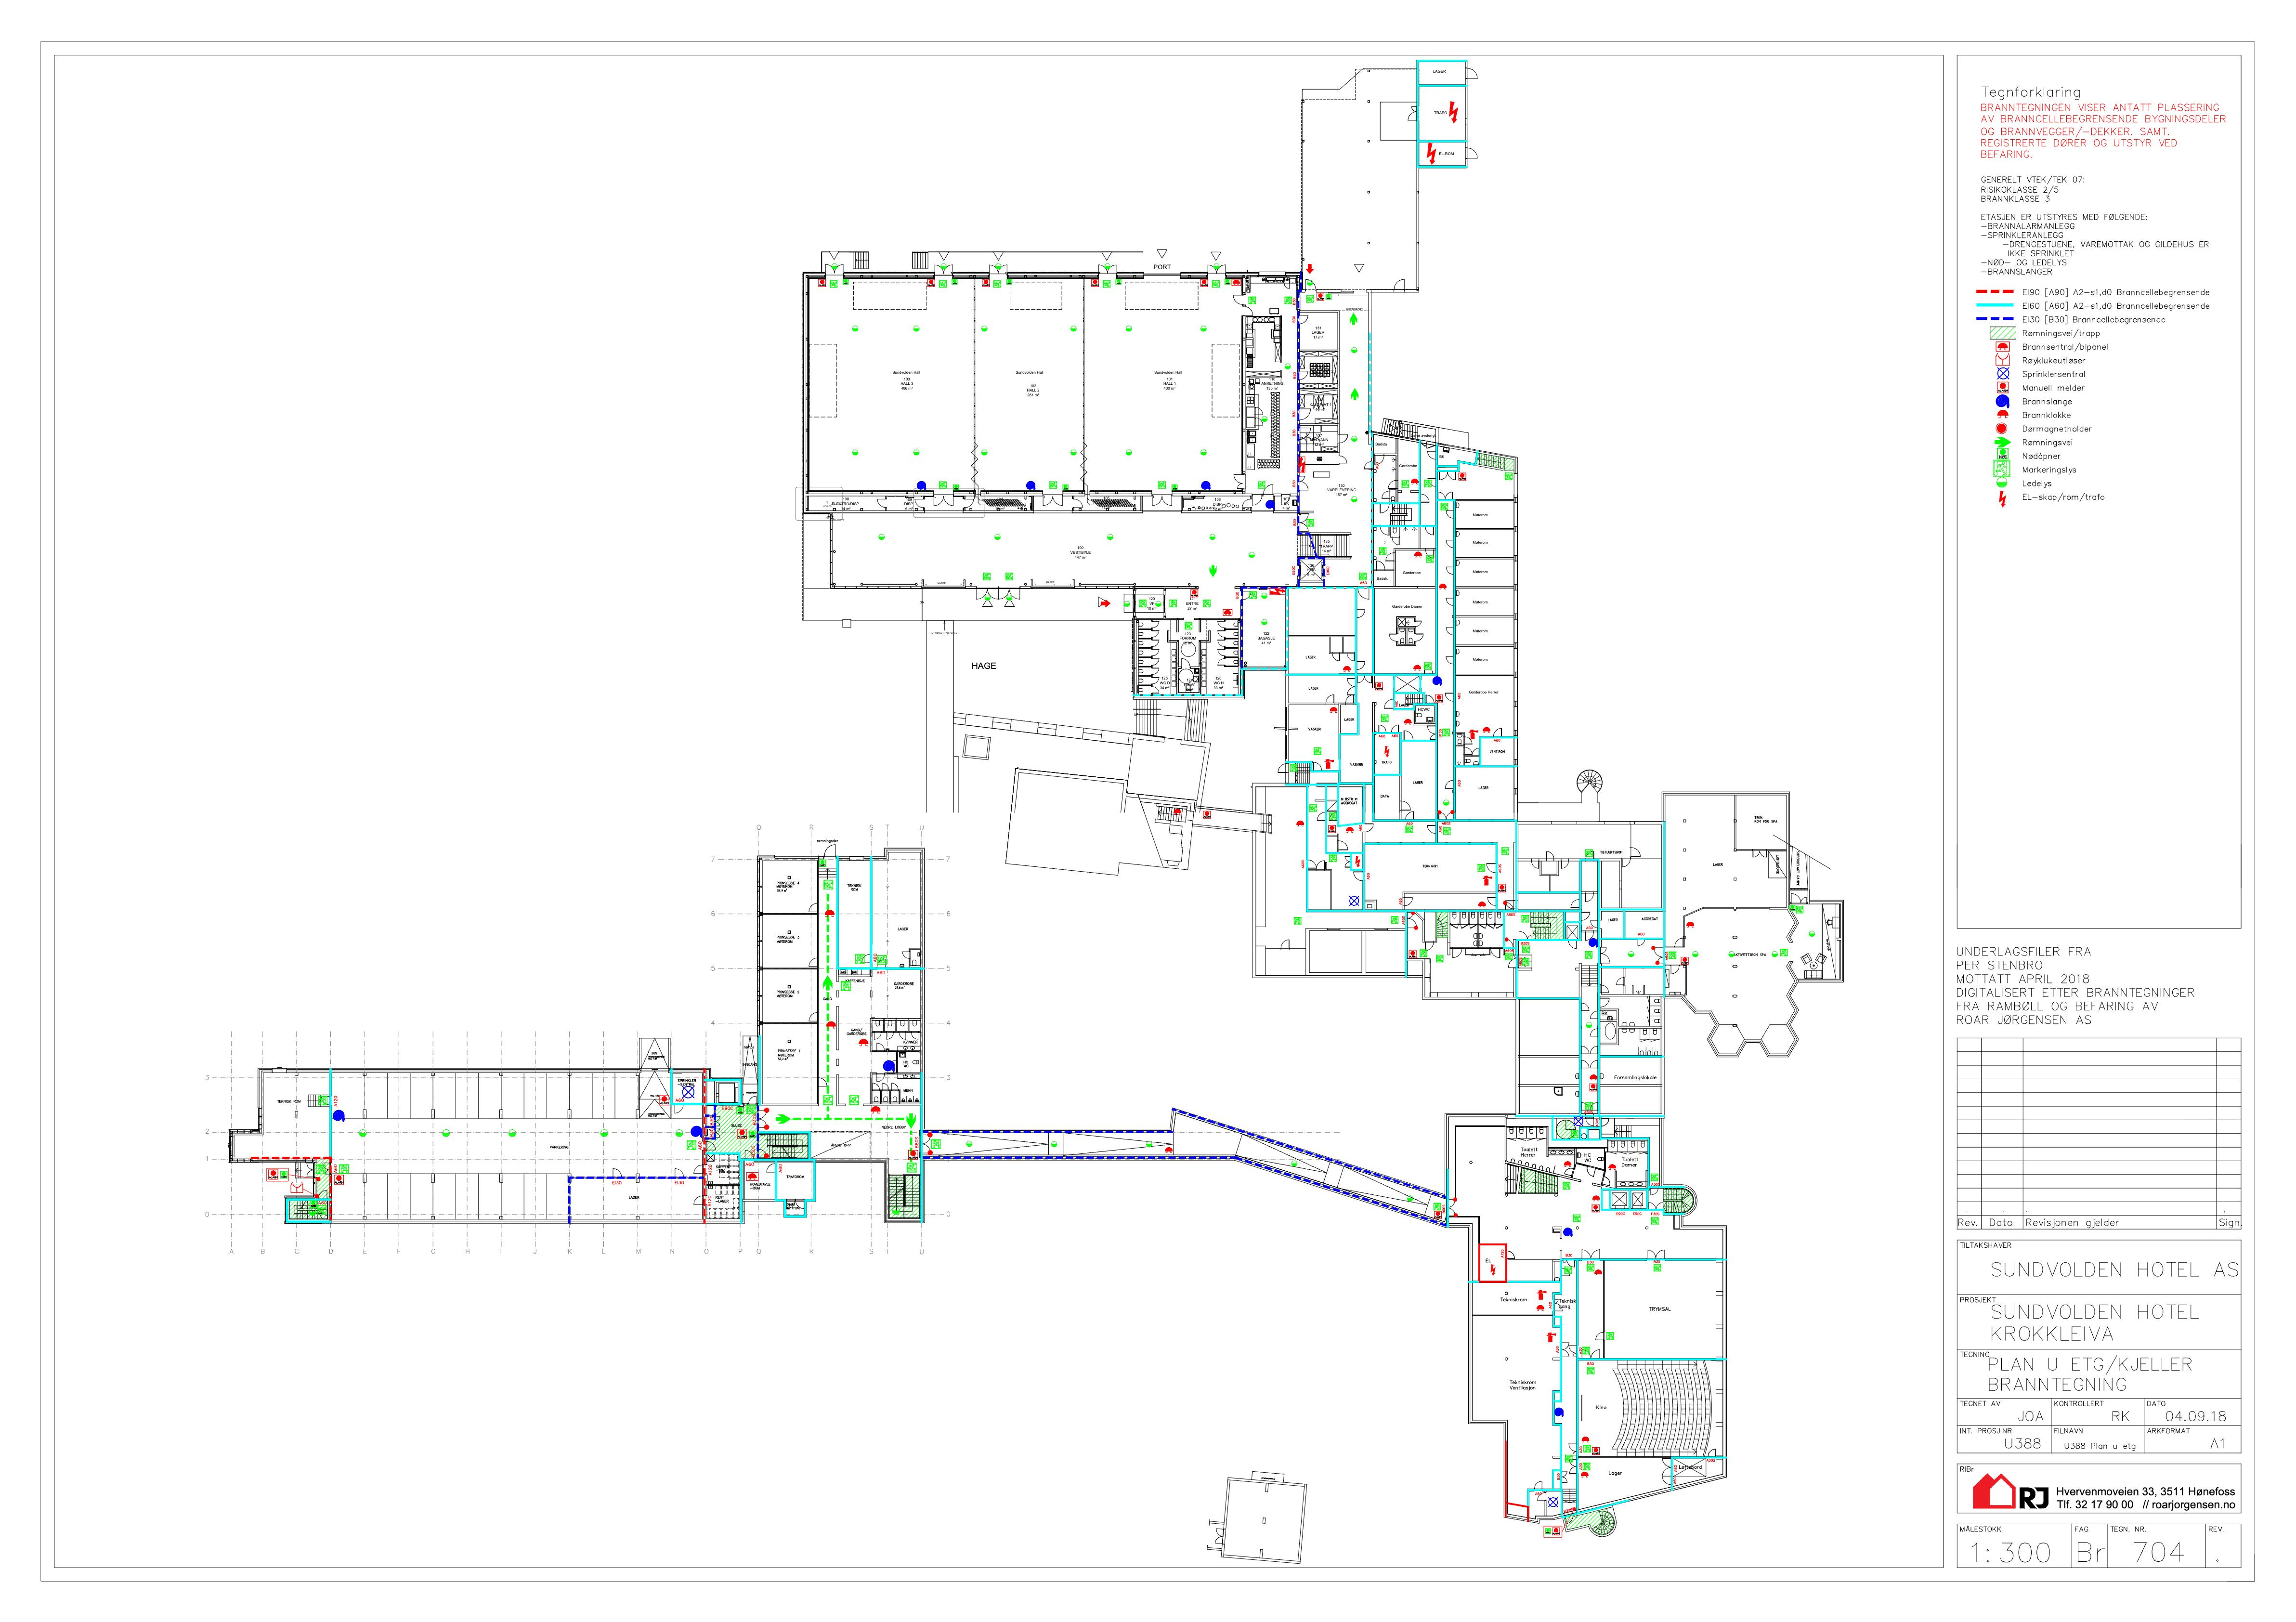room: (807, 275, 974, 492), (1083, 276, 1246, 493), (832, 514, 1295, 587), (975, 275, 1084, 490), (1577, 1358, 1724, 1457), (1604, 1259, 1724, 1359), (229, 1069, 331, 1158), (1364, 844, 1496, 910), (1135, 619, 1241, 696), (570, 1177, 704, 1223), (1299, 310, 1339, 464), (871, 855, 922, 969), (1455, 674, 1516, 767), (1373, 588, 1436, 674), (1577, 1457, 1672, 1512), (760, 1023, 818, 1105), (1787, 903, 1840, 980), (1598, 996, 1662, 1057), (1599, 1056, 1662, 1116), (1506, 1126, 1576, 1179), (1241, 587, 1287, 668), (1517, 941, 1580, 999), (837, 859, 871, 968), (1517, 998, 1580, 1056), (1287, 704, 1340, 771), (1454, 766, 1516, 821), (1287, 588, 1357, 636), (759, 968, 818, 1024), (759, 858, 818, 914), (759, 914, 817, 968), (1735, 794, 1788, 850), (1471, 1282, 1561, 1314), (1401, 740, 1436, 820), (1287, 636, 1357, 675), (1325, 785, 1365, 854), (1287, 636, 1356, 675), (1418, 85, 1466, 141), (1307, 929, 1364, 974), (776, 1160, 814, 1216), (1604, 1138, 1648, 1187), (1516, 859, 1580, 892), (1287, 675, 1357, 703), (1516, 1085, 1580, 1115), (1364, 930, 1406, 975), (1599, 939, 1664, 967), (1455, 645, 1515, 675), (1516, 1057, 1580, 1085), (1455, 528, 1515, 558), (1455, 616, 1515, 645), (1455, 558, 1515, 588), (1455, 587, 1515, 616), (1455, 500, 1515, 529), (871, 1018, 921, 1051), (1395, 549, 1437, 588), (1404, 892, 1496, 909), (871, 1073, 921, 1104), (1396, 439, 1420, 503), (704, 1185, 741, 1223), (742, 1159, 776, 1201), (1418, 141, 1466, 168), (1417, 60, 1466, 86), (1372, 455, 1397, 503), (670, 1069, 704, 1104), (1516, 892, 1580, 911), (704, 1153, 741, 1185), (1624, 910, 1664, 939), (1265, 948, 1306, 976), (1373, 733, 1401, 775), (1624, 967, 1664, 995), (1599, 860, 1621, 910), (1372, 503, 1420, 526), (1436, 444, 1476, 471), (1450, 911, 1478, 948), (1480, 737, 1516, 766), (1307, 869, 1331, 911), (1477, 910, 1504, 948), (1338, 786, 1364, 824), (705, 1080, 740, 1104), (1575, 1148, 1605, 1173), (1599, 909, 1624, 939), (1599, 967, 1624, 994), (1340, 704, 1358, 734), (897, 1051, 921, 1073), (1528, 1491, 1546, 1517), (1351, 853, 1363, 870)
